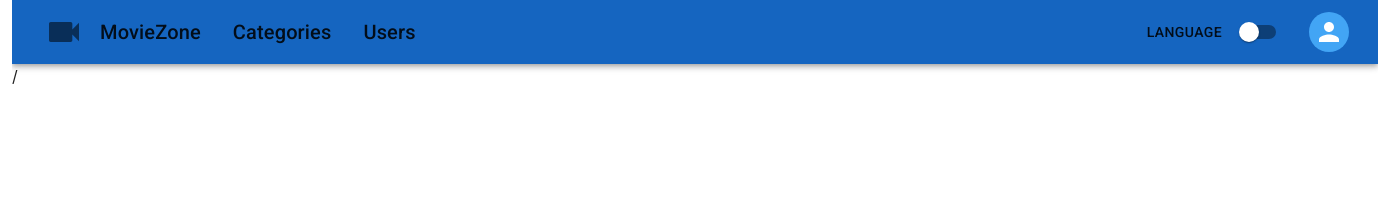
Test case: navbar languageChange works
This screenshot has width=1378, height=204.
Expected: the link with test id "navbar-categories-link" reads "Categories", 233,16 -> 331,48
Expected: the link with test id "navbar-users-link" reads "Users", 363,20 -> 416,44
Click the button with test id "navbar-language-menu" at (1184,32), box 1139,14 -> 1230,50
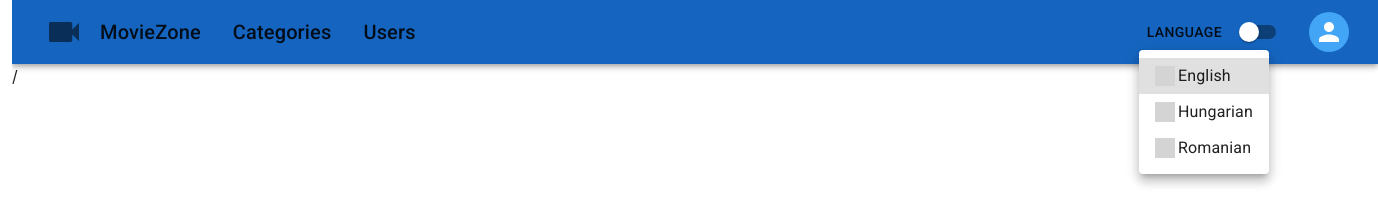
Expected: the menu item with test id "navbar-language-en" reads "English", 1139,58 -> 1269,94
Expected: the menu item with test id "navbar-language-hu" reads "Hungarian"
Click the menu item with test id "navbar-language-hu" at (1204,112), box 1155,102 -> 1253,122
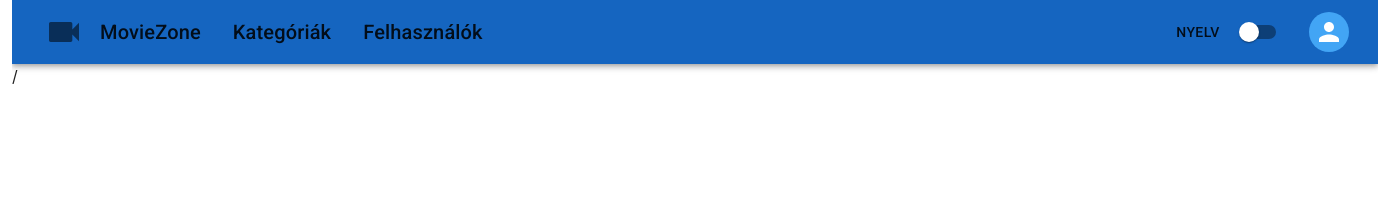
Expected: the link with test id "navbar-categories-link" reads "Kategóriák", 233,16 -> 331,48
Expected: the link with test id "navbar-users-link" reads "Felhasználók", 363,20 -> 483,44
